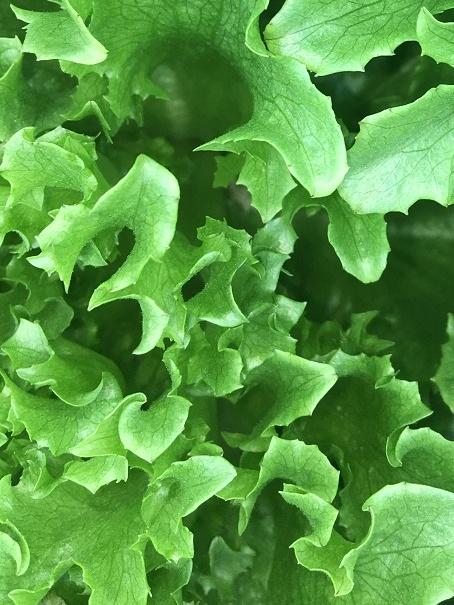tipburn: (360, 501, 375, 513)
